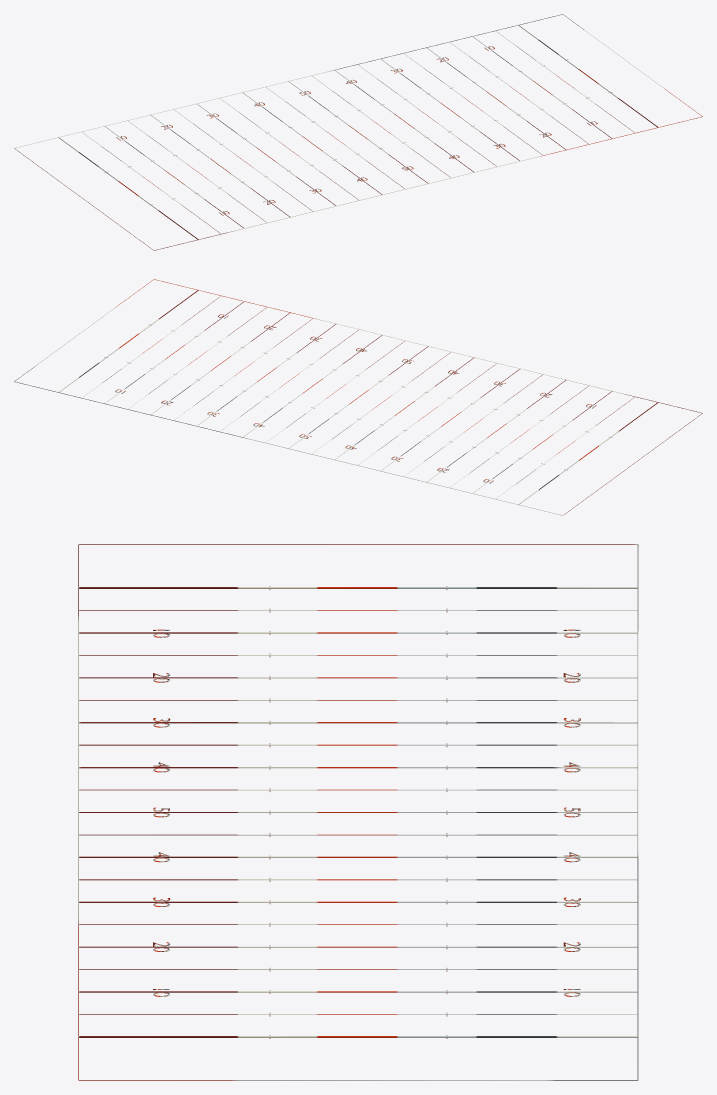
Rendered from football_paint_360x160.glb.
The picture shows the model from 3 angles, top to bottom: view 1: azimuth 30°, elevation 25°; view 2: azimuth 150°, elevation 25°; view 3: azimuth 270°, elevation 25°; orthographic projection. The views are drawn at different scales.
Visible parts, largest first — view 1: football_paint_360x160; view 2: football_paint_360x160; view 3: football_paint_360x160.
Part boxes in pixels (bbox=[...]): football_paint_360x160: bbox=[14, 14, 702, 250]; football_paint_360x160: bbox=[14, 279, 702, 515]; football_paint_360x160: bbox=[78, 544, 638, 1080].
Size of the model in its own units: 358 by 0.66 by 158.
Materials: 1 (1 with a texture image).
